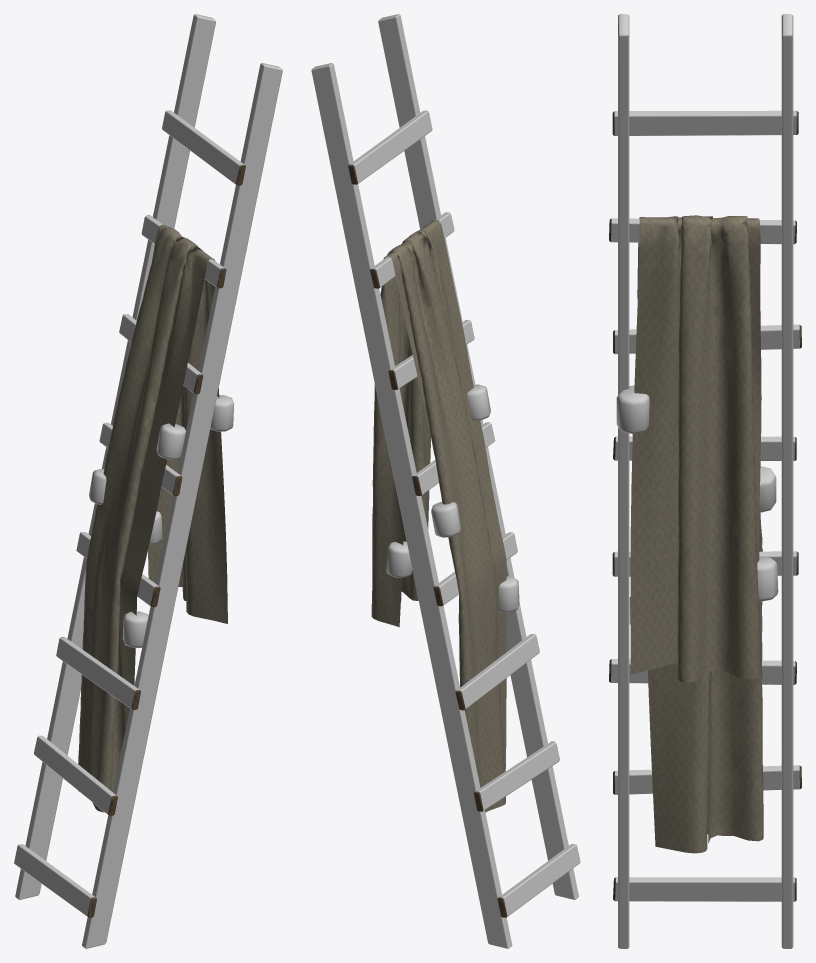
File: SM_Ladder_3m_net_01.fbx
3 views of the same model, side by side, from view 1: azimuth 30°, elevation 25°; view 2: azimuth 150°, elevation 25°; view 3: azimuth 270°, elevation 25° (orthographic). The views are drawn at different scales.
Visible parts, largest first — view 1: SM_Ladder_3m_net_01_LOD0; view 2: SM_Ladder_3m_net_01_LOD0; view 3: SM_Ladder_3m_net_01_LOD0.
Part boxes in pixels (<box>): SM_Ladder_3m_net_01_LOD0: <box>14,14,282,948</box>; SM_Ladder_3m_net_01_LOD0: <box>311,14,580,948</box>; SM_Ladder_3m_net_01_LOD0: <box>609,14,801,948</box>.
Size of the model in its own units: 72.38 by 49.8 by 294.
